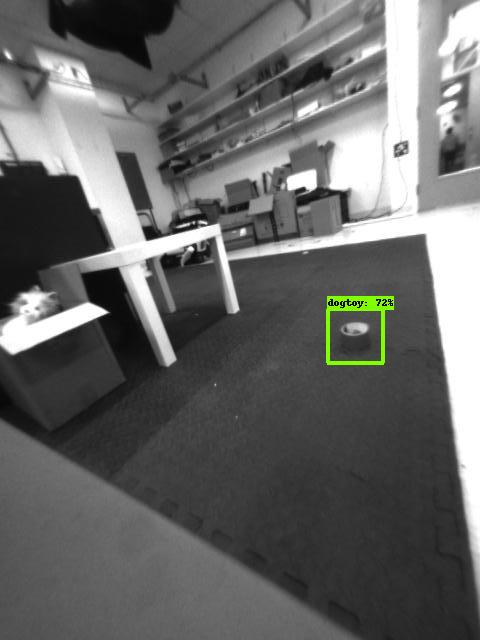dogtoy: (328, 312, 381, 360)
